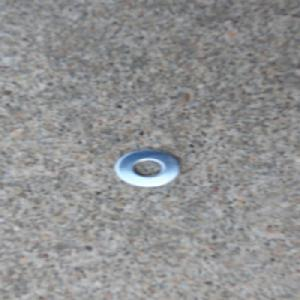Washer: (110, 147, 181, 189)
